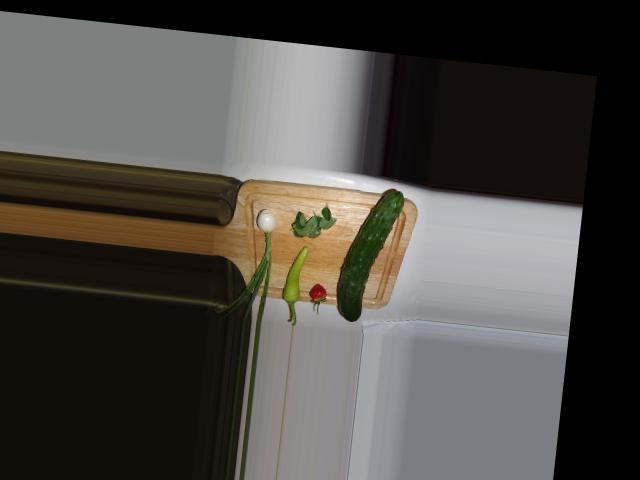cucumber: (335, 185, 405, 325)
